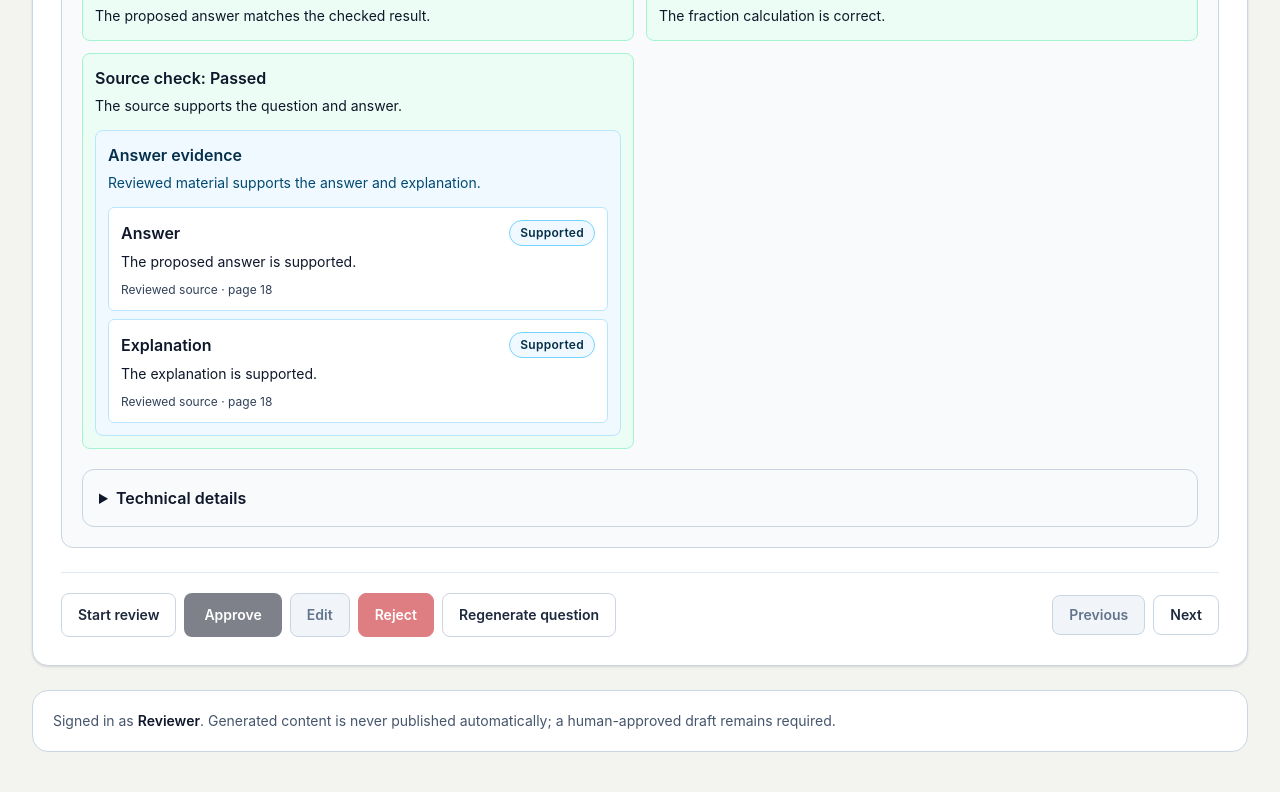
Test: ReviewApproveStudio › shows the question, answer, explanation, marking, scope, sources, and checks together
This screenshot has width=1280, height=792.
(page scrolled)
Expected: the button "Edit" is shown, [290,593,350,637]
Expected: the button "Reject" is shown, [358,593,434,637]
Click the button "Start review".
click(119, 615)  # box [61,593,176,637]
(page scrolled)
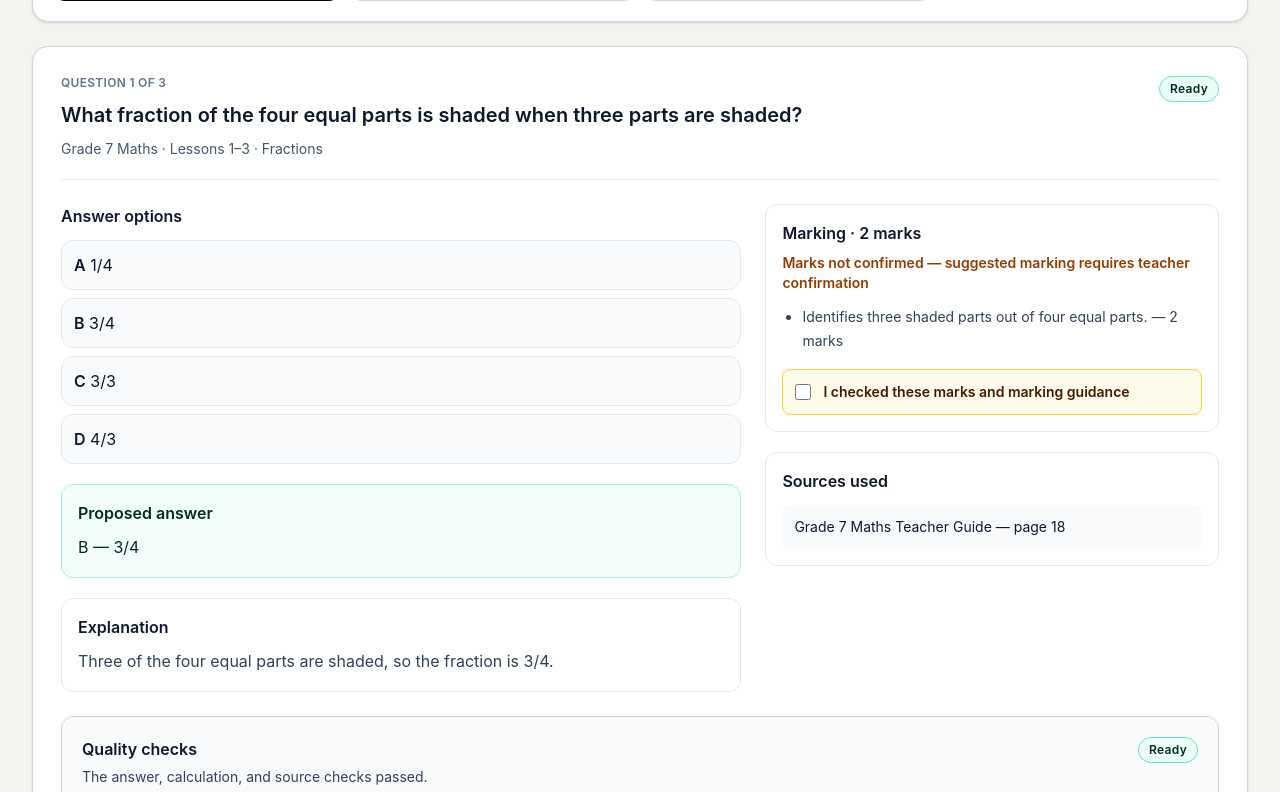
Click the checkbox labelled "I checked these marks and marking guidance".
click(803, 392)  # box [795,384,811,400]
(page scrolled)
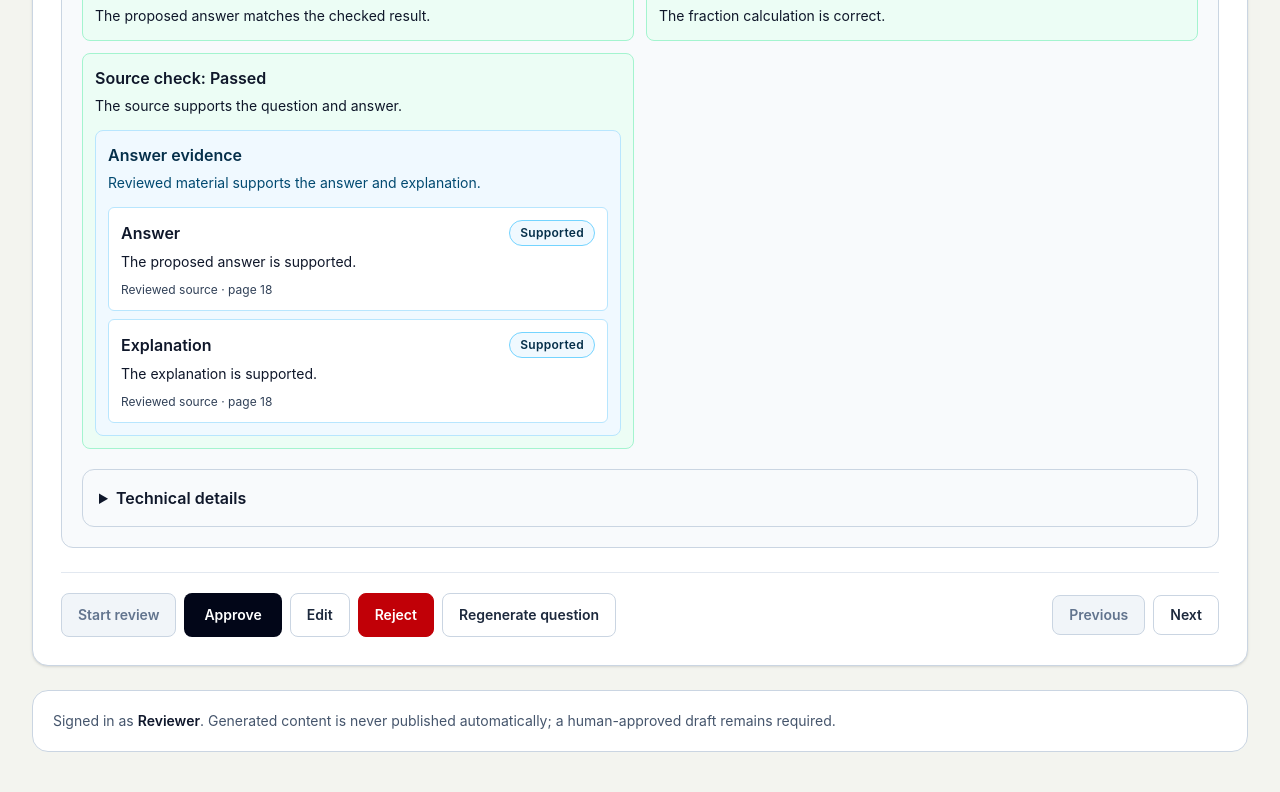
Expected: the button "Approve" is enabled, [184,593,282,637]
